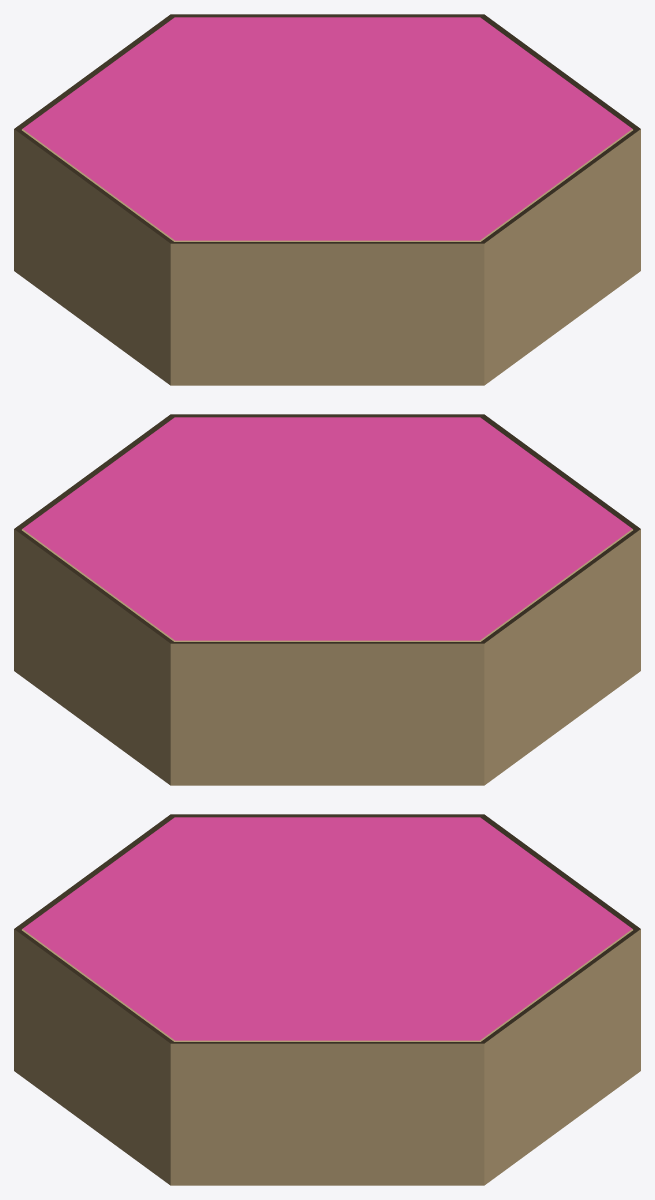
The picture shows the model from 3 angles, top to bottom: view 1: azimuth 30°, elevation 25°; view 2: azimuth 150°, elevation 25°; view 3: azimuth 270°, elevation 25°; orthographic projection.
Visible parts, largest first — view 1: Circle, Cylinder; view 2: Circle, Cylinder; view 3: Circle, Cylinder.
Part boxes in pixels (box(x1,y1,x2,y2)): Circle: box(22, 17, 632, 240); Cylinder: box(14, 14, 640, 385); Circle: box(22, 417, 632, 640); Cylinder: box(14, 414, 640, 785); Circle: box(22, 817, 632, 1040); Cylinder: box(14, 814, 640, 1185).
Size of the model in its own units: 173 by 50.03 by 200.
